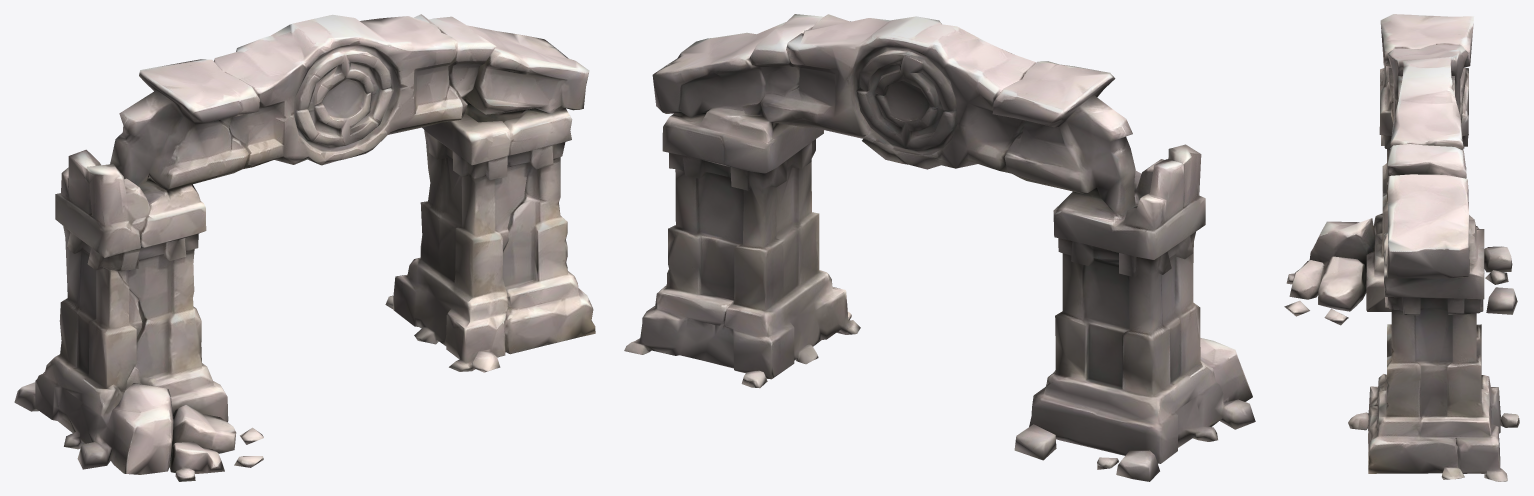
The model's file is grand_arch.glb.
The picture shows the model from 3 angles, left to right: view 1: azimuth 30°, elevation 25°; view 2: azimuth 150°, elevation 25°; view 3: azimuth 270°, elevation 25°; orthographic projection. The views are drawn at different scales.
Parts seen in each view (by area): view 1: grand_arch; view 2: grand_arch; view 3: grand_arch.
Part boxes in pixels (bbox=[...]): grand_arch: bbox=[14, 14, 595, 481]; grand_arch: bbox=[624, 14, 1255, 481]; grand_arch: bbox=[1284, 14, 1519, 481].
Size of the model in its own units: 6 by 3.71 by 2.56.
Materials: 1 (1 with a texture image).
